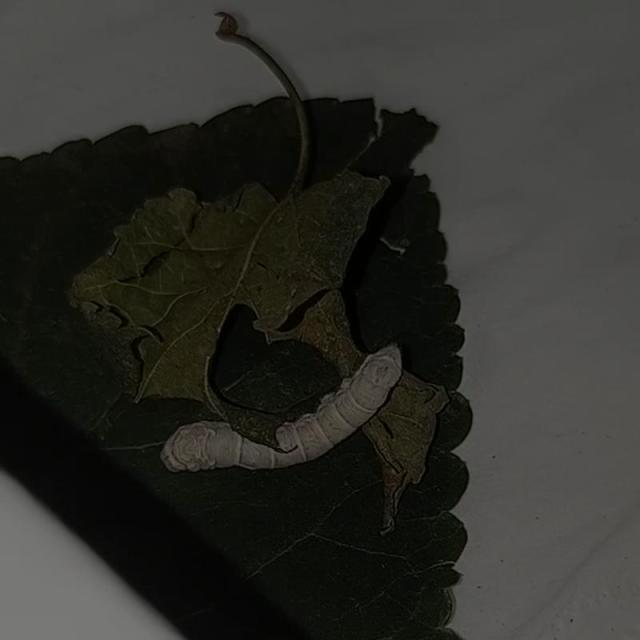Healthy: (138, 320, 493, 558)
